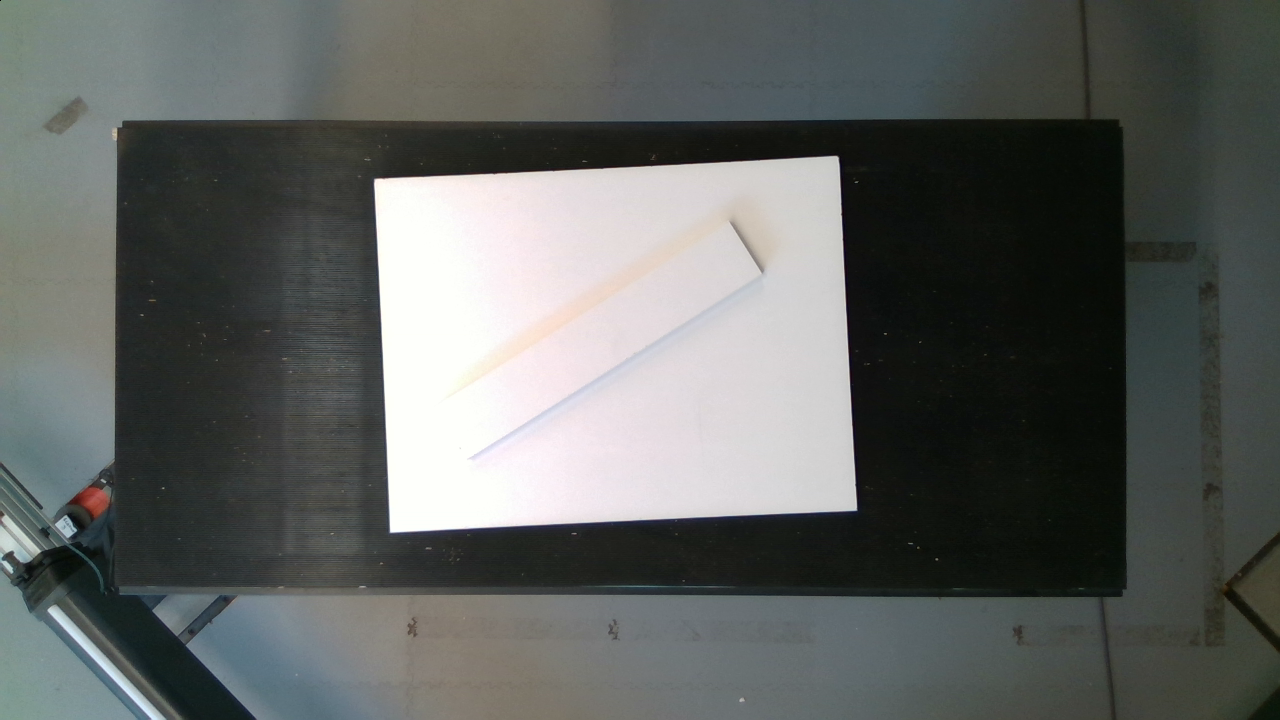part1: (433, 205, 787, 475)
part2: (365, 150, 885, 546)
